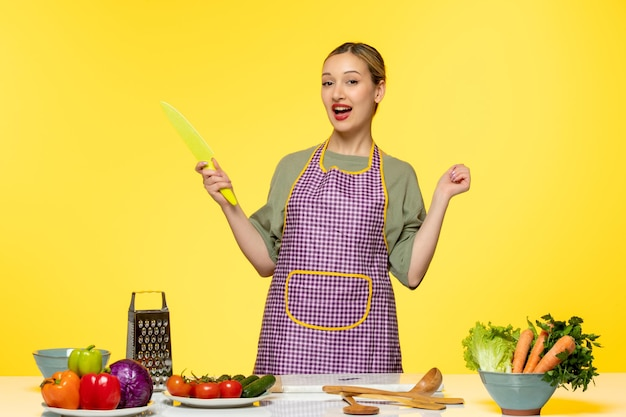knife: (161, 102, 217, 162)
